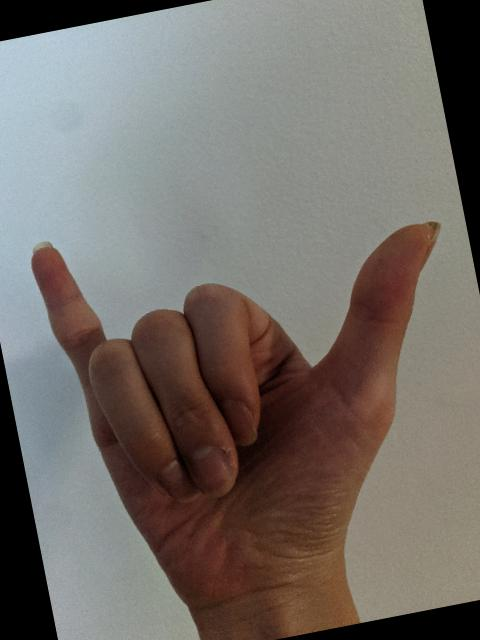Y: (22, 162, 480, 618)
